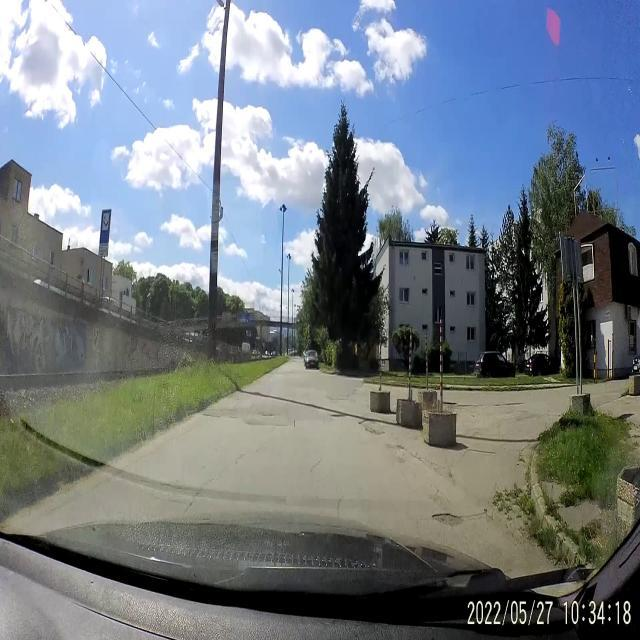Pothole: (356, 412, 386, 440), (432, 510, 464, 530), (394, 441, 407, 464), (200, 408, 220, 420), (260, 409, 274, 421)
